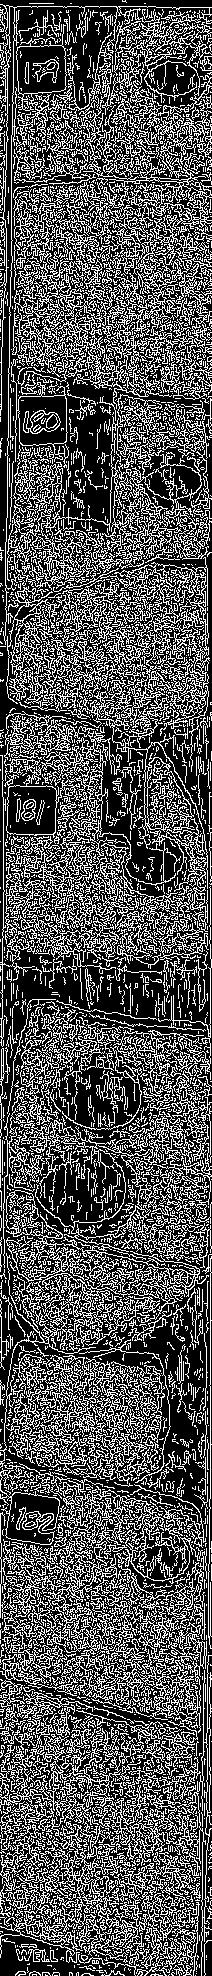hplug: (132, 439, 212, 518), (122, 1524, 198, 1602), (119, 825, 194, 900), (138, 37, 212, 112)
scal: (40, 1041, 156, 1143), (29, 1140, 139, 1248)
vplug: (43, 372, 125, 543), (40, 29, 121, 184), (85, 713, 156, 849)
